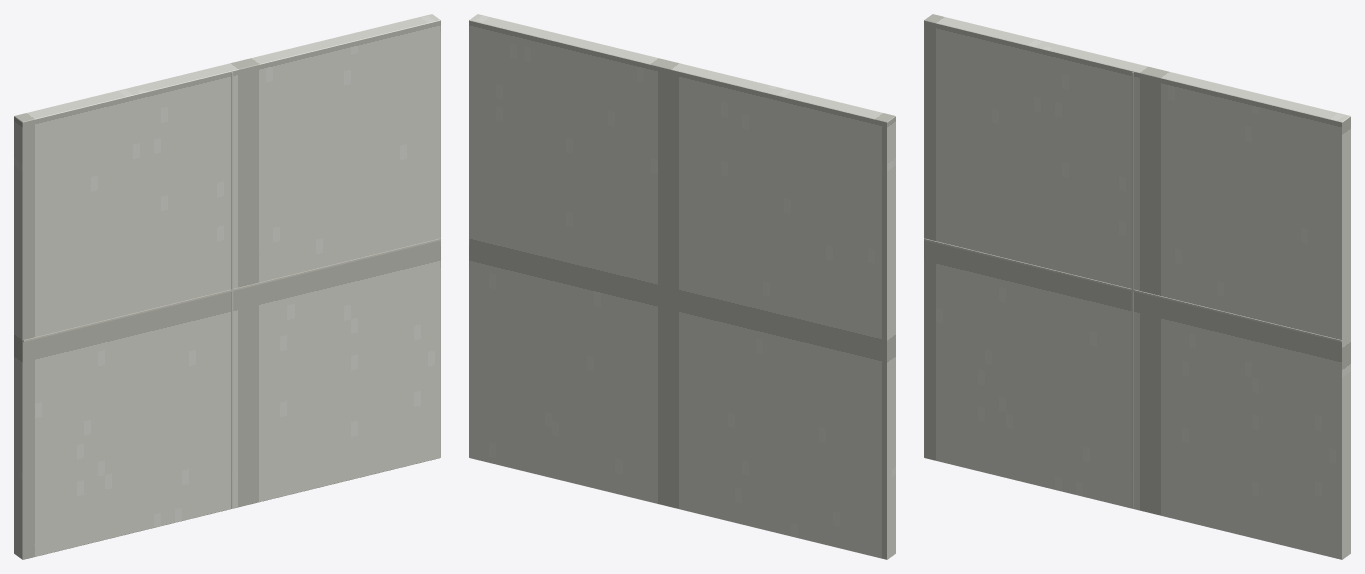
The model's file is pool_wall_tile_module.glb.
The picture shows the model from 3 angles, left to right: view 1: azimuth 30°, elevation 25°; view 2: azimuth 150°, elevation 25°; view 3: azimuth 330°, elevation 25°; orthographic projection.
Visible parts, largest first — view 1: pool_pool_wall_tile_module; view 2: pool_pool_wall_tile_module; view 3: pool_pool_wall_tile_module.
Boxes of the visible parts, bbox=[...] form: pool_pool_wall_tile_module: bbox=[14, 14, 440, 559]; pool_pool_wall_tile_module: bbox=[469, 14, 895, 559]; pool_pool_wall_tile_module: bbox=[924, 14, 1350, 559].
Size of the model in its own units: 0.5 by 0.5 by 0.019.
Materials: 2 (2 with a texture image).
